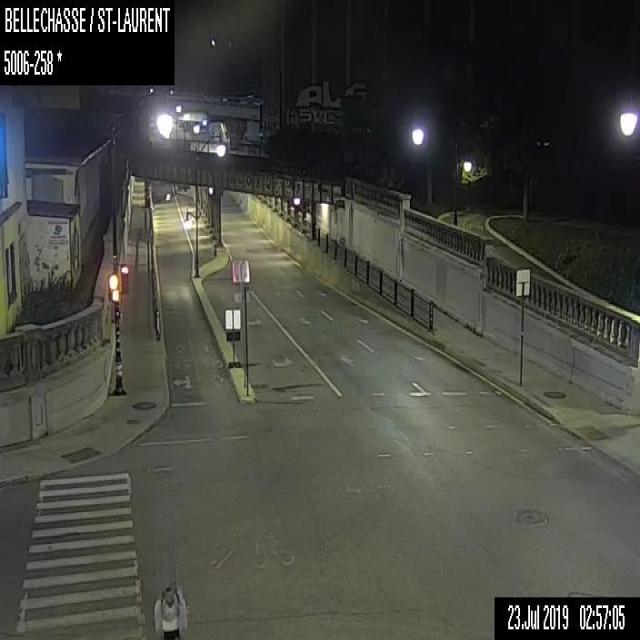pedestrian: (160, 586, 178, 638)
